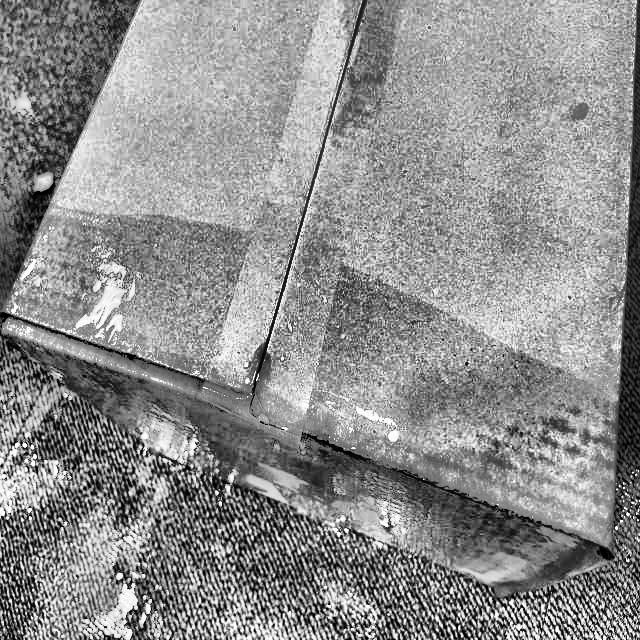box: (0, 0, 639, 604)
wet: (365, 339, 620, 592), (5, 194, 256, 436)
